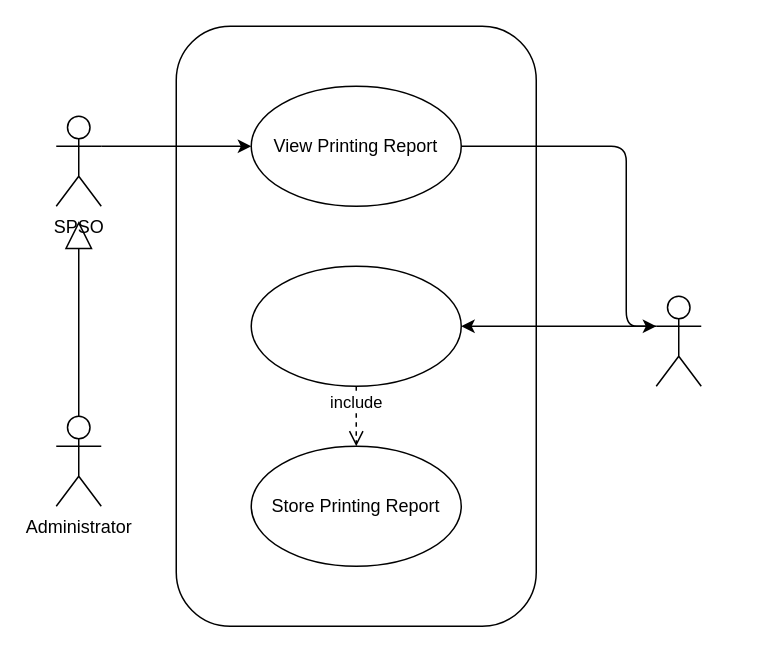
This 767x653 diagram has some shape labels left out. Each missing label, with the box of its shape:
Generate Printing Report: (250, 265, 461, 386)
HCMUT_SSPS: (655, 295, 701, 386)
